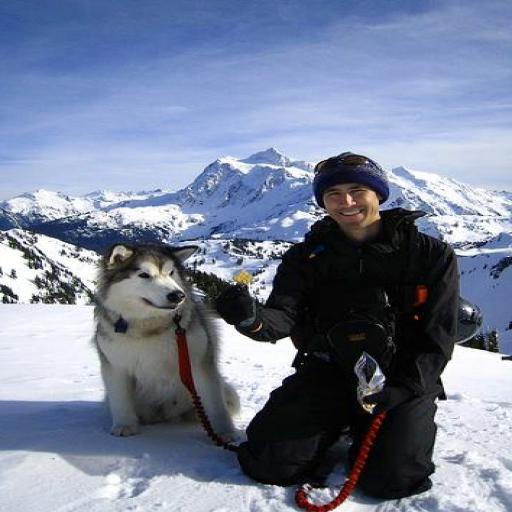dog_face: (92, 243, 207, 320)
